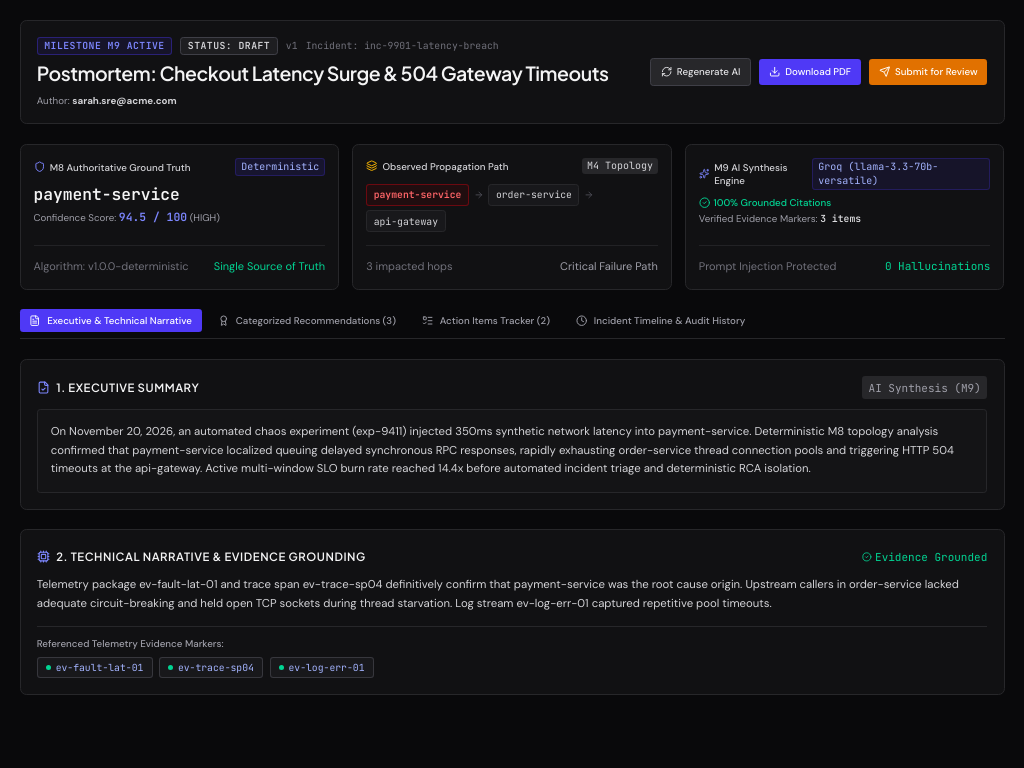
Test: Milestone M9: AI-Assisted RCA Explanations & Incident Postmortems › allows adding a new action item in the action items tab
Click the button "Action Items Tracker (2)": (486, 321) 412,309 -> 560,332
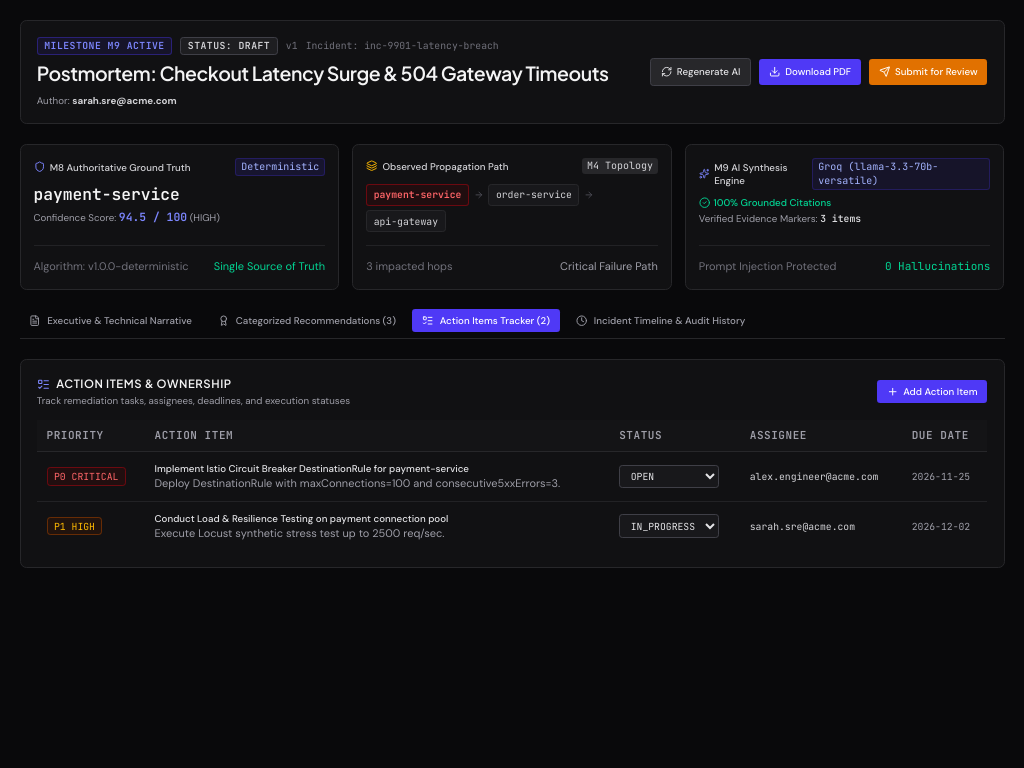
Note: Click Add Action Item
Click the button "Add Action Item": (932, 392) 877,380 -> 987,403
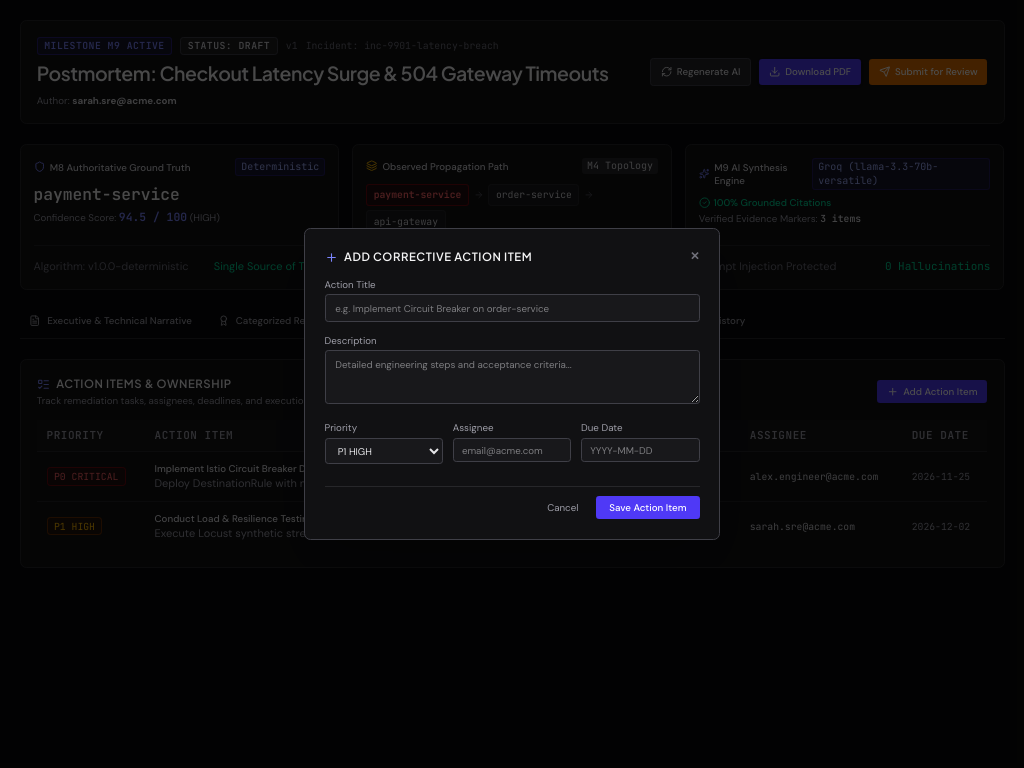
Now the heading "Add Corrective Action Item" is shown, box 324,249 -> 532,265
Note: Fill form
In the field with placeholder "e.g. Implement Circuit Breaker on order-service": (512, 308) 324,294 -> 700,322, type "Configure HPA Autoscaling Target to 65%"
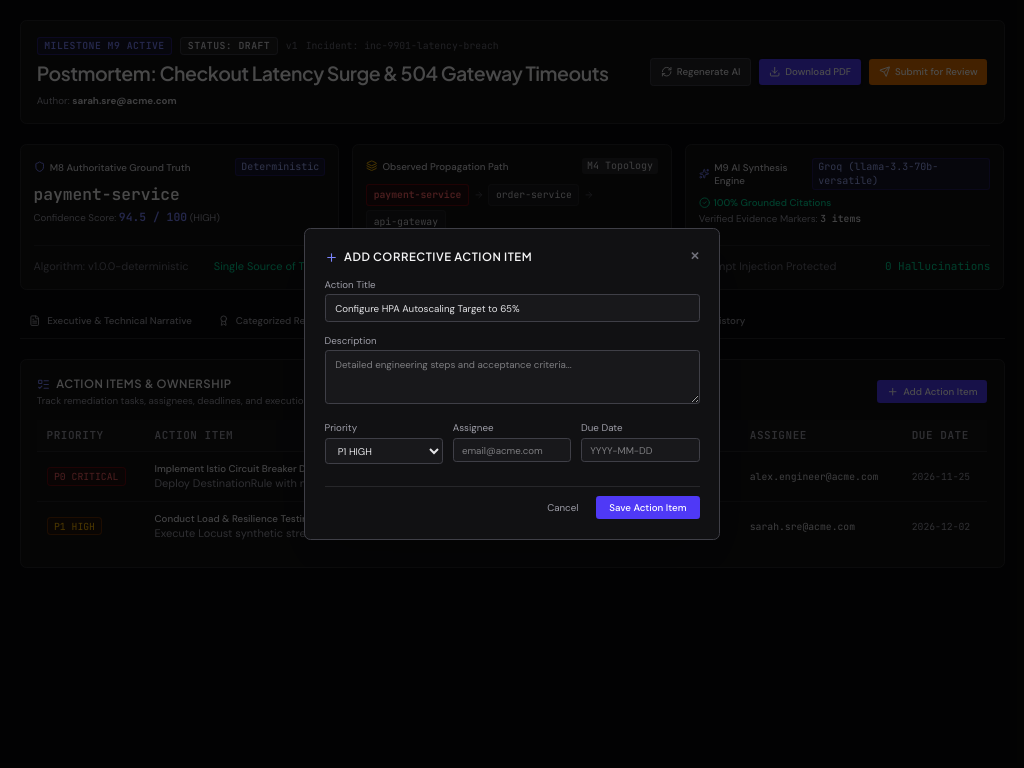
In the text box with placeholder "Detailed engineering steps and acceptance criteria...": (512, 377) 324,350 -> 700,404, type "Modify k8s/hpa.yaml and deploy to cluster."
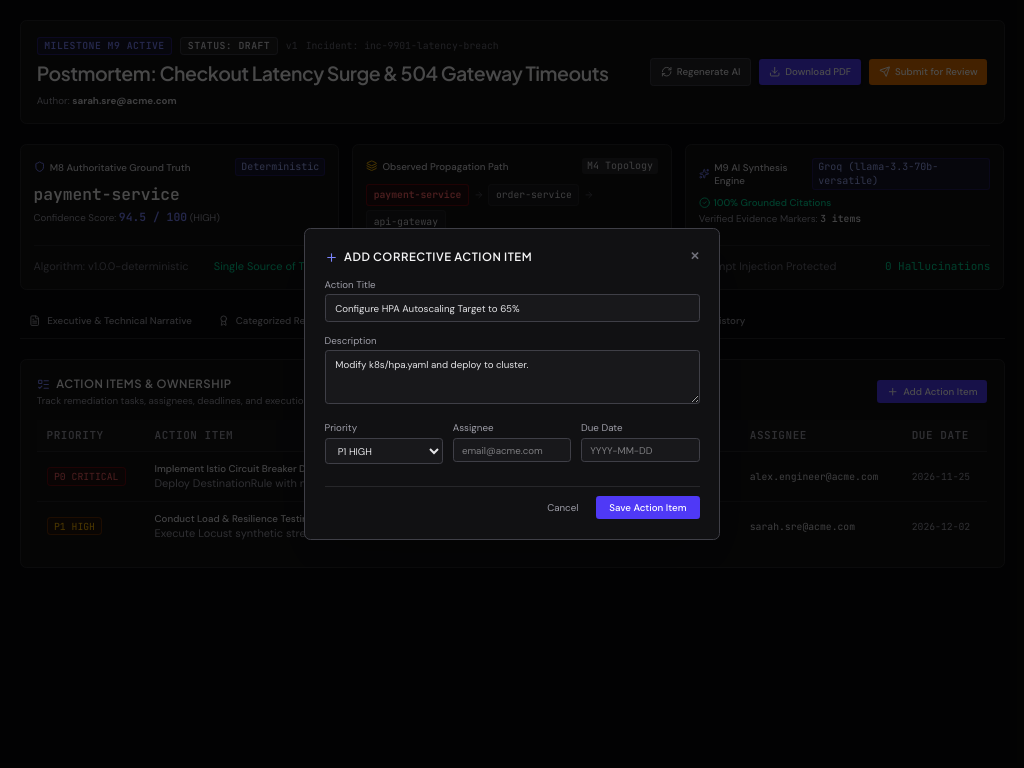
Click the button "Save Action Item": (648, 508) 596,496 -> 700,519
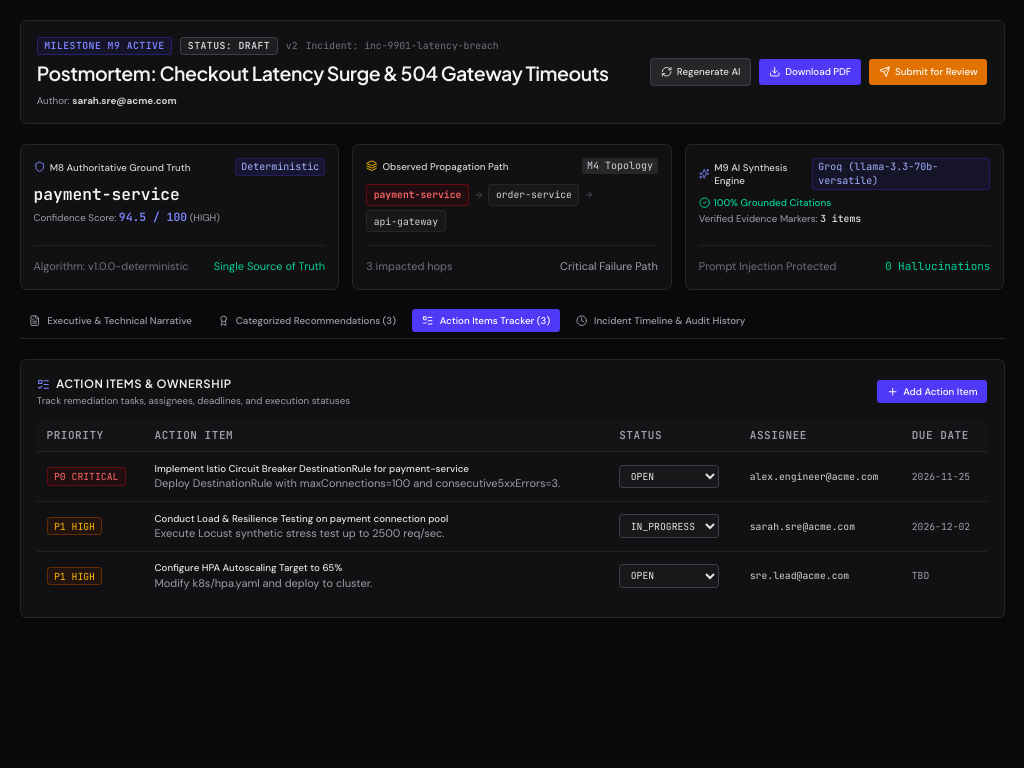
Now the text "Configure HPA Autoscaling Target to 65%" is shown, box 154,561 -> 342,574
